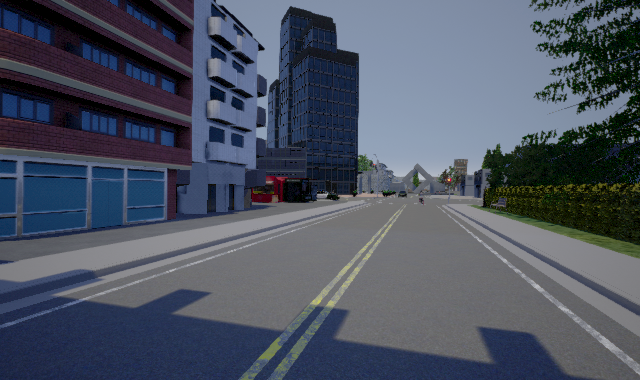bike: (416, 189, 427, 208)
traffic_light: (448, 177, 451, 187)
